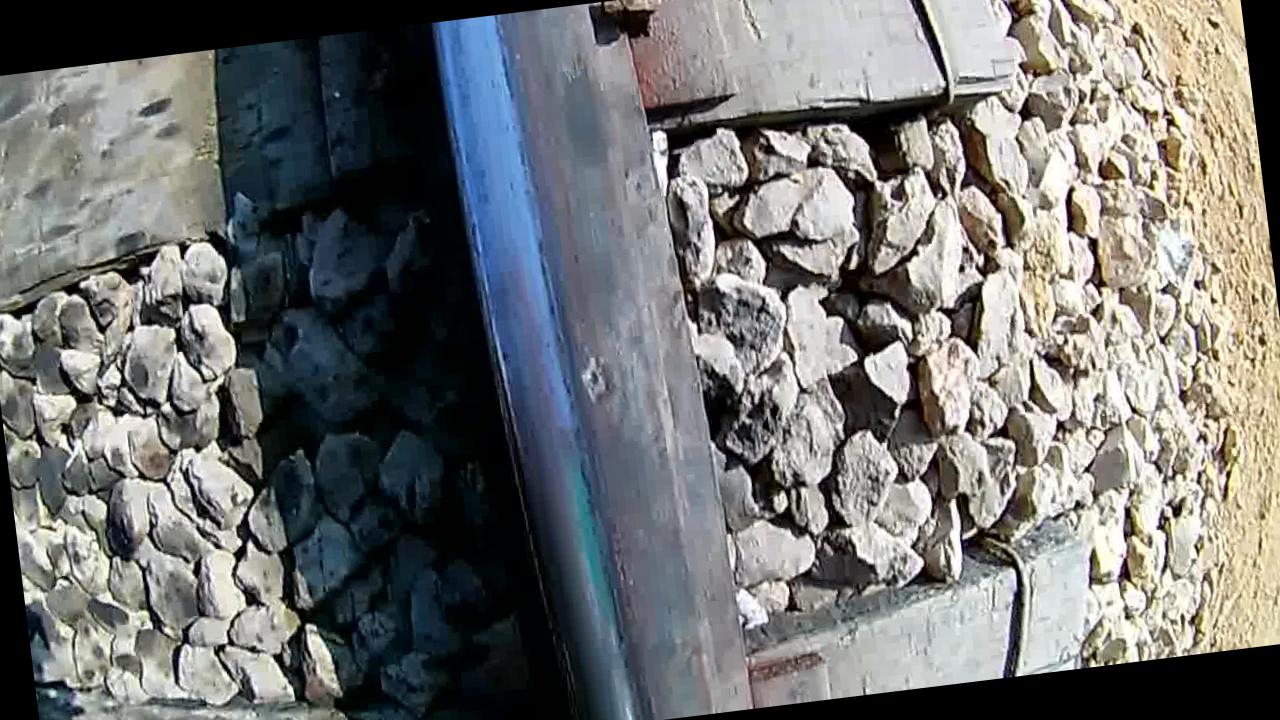crack: (447, 0, 728, 720)
